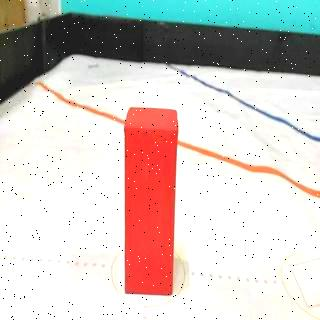redbox: (124, 105, 180, 294)
